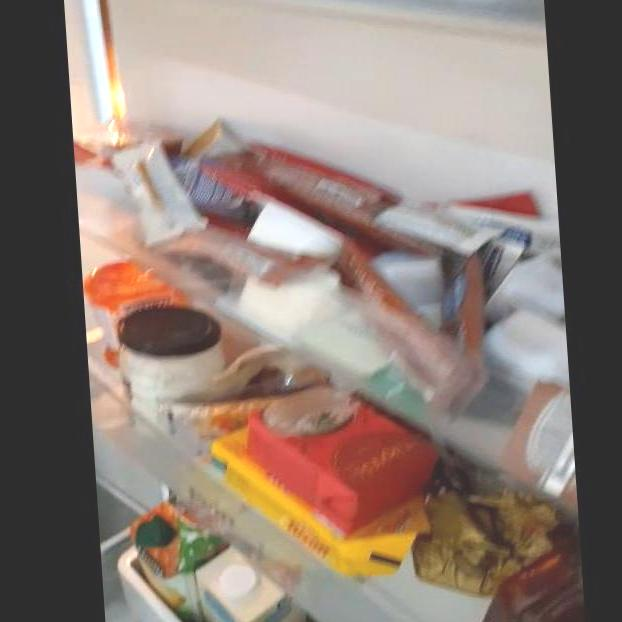butter: (226, 397, 415, 559), (419, 498, 549, 590)
juice: (128, 505, 206, 615)
milk: (195, 550, 299, 622)
sauce: (86, 263, 173, 378)
